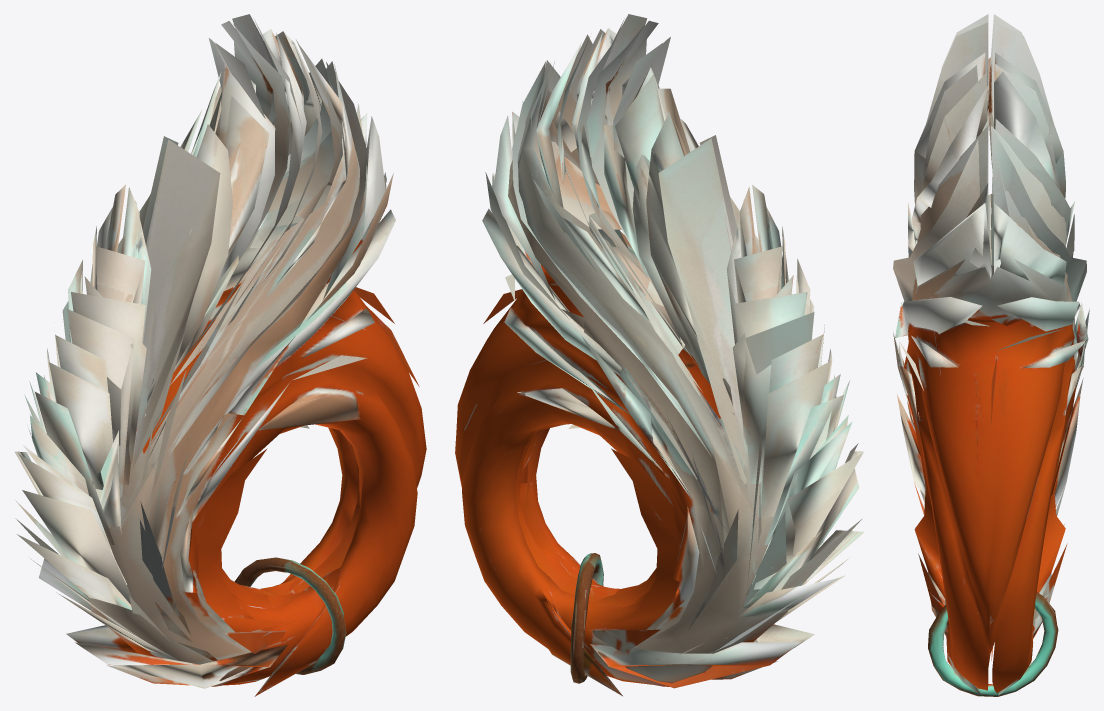
The model's file is foxfire-tail_refine.glb.
3 renders of one model, left to right at view 1: azimuth 30°, elevation 25°; view 2: azimuth 150°, elevation 25°; view 3: azimuth 270°, elevation 25°, orthographic. The views are drawn at different scales.
Size of the model in its own units: 0.6025 by 0.9517 by 0.2593.
1 material, 1 textured.
